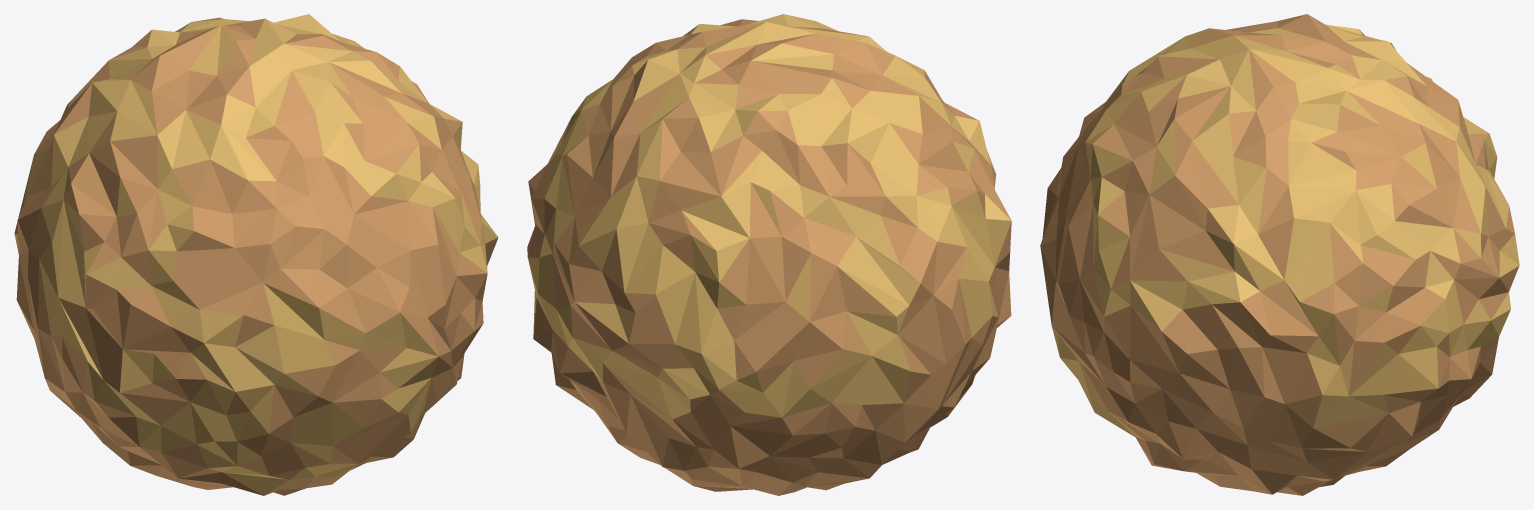
Rendered from Venus.fbx.
The picture shows the model from 3 angles, left to right: view 1: azimuth 30°, elevation 25°; view 2: azimuth 150°, elevation 25°; view 3: azimuth 270°, elevation 25°; orthographic projection. The views are drawn at different scales.
Parts seen in each view (by area): view 1: Venus; view 2: Venus; view 3: Venus.
Part boxes in pixels (x1,y1,x2,y2): Venus: (14,14,498,495); Venus: (527,14,1011,495); Venus: (1040,14,1519,495).
Bounding box in the file's own units: 35.03 × 35.06 × 35.29.
1 material, 1 textured.
